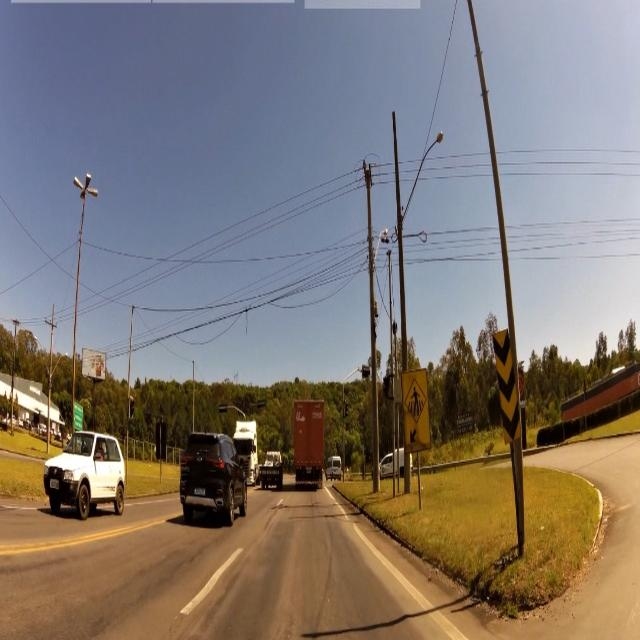A-32b: (405, 380, 426, 421)
MP: (493, 331, 519, 441)
